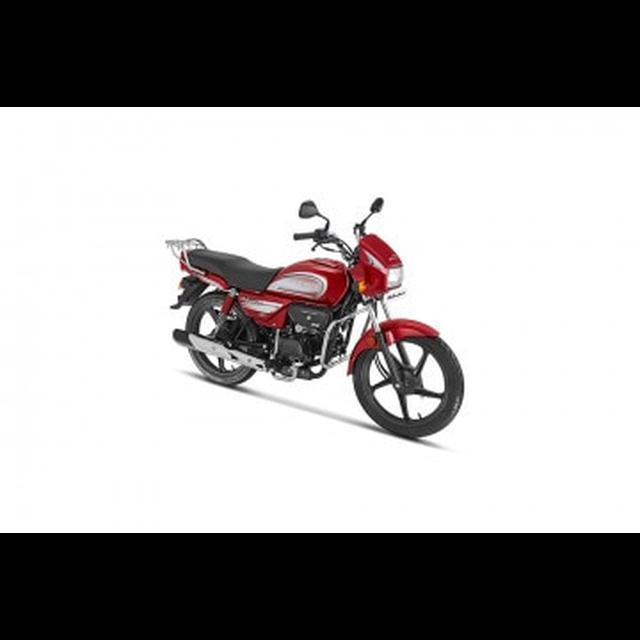motorcycle: (161, 191, 468, 446)
